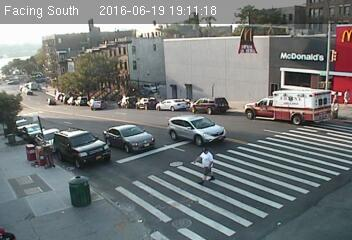neg: (321, 63, 334, 80), (205, 95, 218, 112), (148, 81, 158, 95)
pos: (191, 145, 221, 184), (328, 88, 343, 107), (343, 88, 351, 102)
